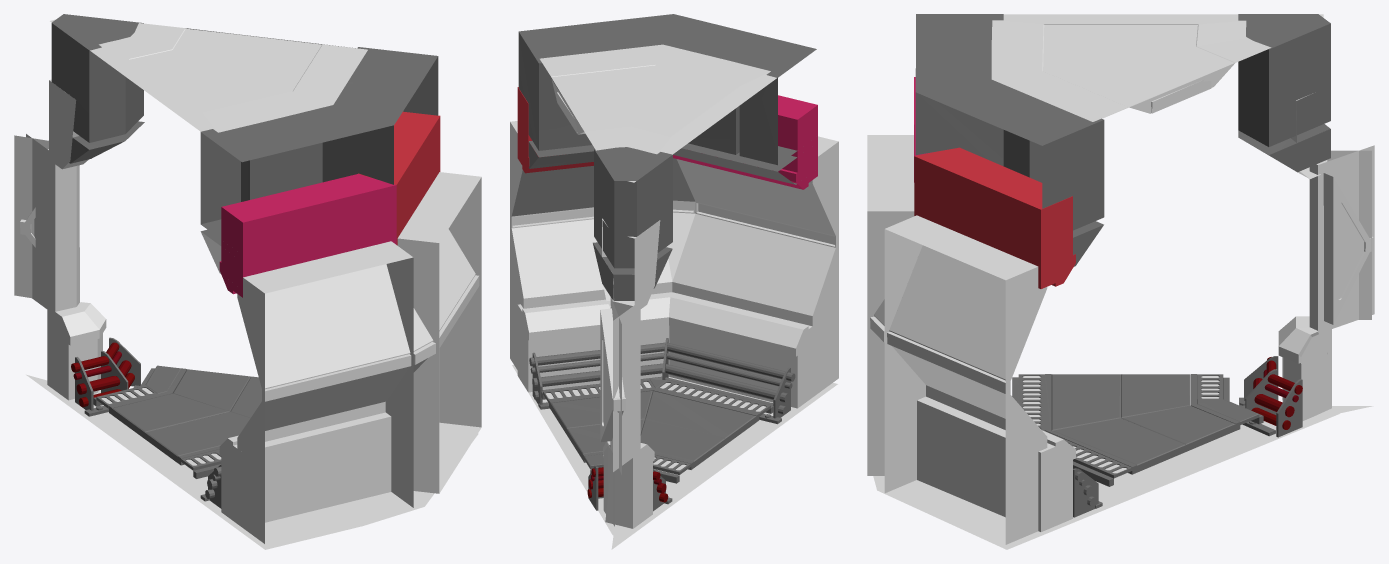
File: Corridor_Chunk_1_45Degree.fbx
3 views of the same model, side by side, from view 1: azimuth 30°, elevation 25°; view 2: azimuth 150°, elevation 25°; view 3: azimuth 270°, elevation 25° (orthographic). The views are drawn at different scales.
Parts seen in each view (by area): view 1: Cube.031, roof_1_45, Door_1___Corridor_EVERYTHING_21.009, Cube.008, Up1, Cube.029, Door_1___Corridor_EVERYTHING_21.132, Door_1___Corridor_EVERYTHING_21.000, Plane, up2, Inline, Tile_45_2 (+7 smaller); view 2: Cube.031, roof_1_45, Door_1___Corridor_EVERYTHING_21.009, Cube.029, Door_1___Corridor_EVERYTHING_21.132, Door_1___Corridor_EVERYTHING_21.000, Cube.008, Cube.000, Plane, Up1, Inline, Tile_45_2 (+19 smaller); view 3: Cube.031, roof_1_45, up2, Door_1___Corridor_EVERYTHING_21.132, Door_1___Corridor_EVERYTHING_21.000, Cube.008, Cube.000, Door_1___Corridor_EVERYTHING_21.009, Plane, Tile_45_2, Tile_45_3, Cube.046 (+10 smaller).
Part boxes in pixels (x1=…): Cube.031: x1=237, y1=172, x2=481, y2=544; roof_1_45: x1=50, y1=19, x2=367, y2=132; Door_1___Corridor_EVERYTHING_21.009: x1=200, y1=105, x2=393, y2=273; Cube.008: x1=14, y1=134, x2=106, y2=400; Up1: x1=219, y1=174, x2=396, y2=297; Cube.029: x1=219, y1=412, x2=391, y2=527; Door_1___Corridor_EVERYTHING_21.132: x1=51, y1=14, x2=144, y2=163; Door_1___Corridor_EVERYTHING_21.000: x1=333, y1=47, x2=438, y2=124; Plane: x1=26, y1=374, x2=478, y2=549; up2: x1=358, y1=111, x2=440, y2=245; Inline: x1=265, y1=274, x2=479, y2=401; Tile_45_2: x1=145, y1=412, x2=250, y2=462; Cube.031: x1=510, y1=121, x2=838, y2=393; roof_1_45: x1=540, y1=44, x2=776, y2=182; Door_1___Corridor_EVERYTHING_21.009: x1=664, y1=14, x2=816, y2=184; Cube.029: x1=669, y1=292, x2=817, y2=408; Door_1___Corridor_EVERYTHING_21.132: x1=593, y1=147, x2=672, y2=300; Door_1___Corridor_EVERYTHING_21.000: x1=518, y1=14, x2=673, y2=168; Cube.008: x1=603, y1=297, x2=654, y2=528; Cube.000: x1=517, y1=292, x2=671, y2=392; Plane: x1=512, y1=365, x2=837, y2=549; Up1: x1=673, y1=95, x2=817, y2=189; Inline: x1=511, y1=200, x2=835, y2=247; Tile_45_2: x1=645, y1=391, x2=756, y2=444; Cube.031: x1=867, y1=135, x2=1047, y2=544; roof_1_45: x1=991, y1=14, x2=1323, y2=121; up2: x1=914, y1=147, x2=1075, y2=288; Door_1___Corridor_EVERYTHING_21.132: x1=1238, y1=14, x2=1330, y2=172; Door_1___Corridor_EVERYTHING_21.000: x1=916, y1=79, x2=1104, y2=266; Cube.008: x1=1278, y1=145, x2=1374, y2=420; Cube.000: x1=917, y1=396, x2=1075, y2=531; Door_1___Corridor_EVERYTHING_21.009: x1=915, y1=14, x2=1003, y2=166; Plane: x1=873, y1=406, x2=1373, y2=549; Tile_45_2: x1=1052, y1=374, x2=1120, y2=430; Tile_45_3: x1=1052, y1=418, x2=1185, y2=472; Cube.046: x1=1323, y1=173, x2=1373, y2=324.
Size of the model in its own units: 598 by 724 by 849.
